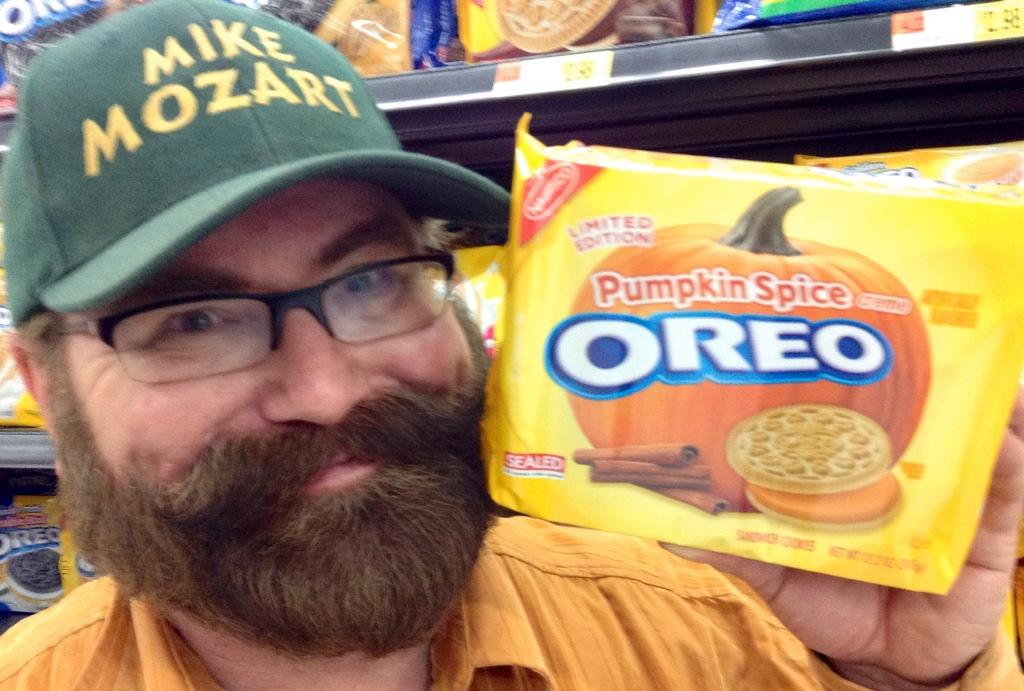Hat: (2, 0, 512, 326)
